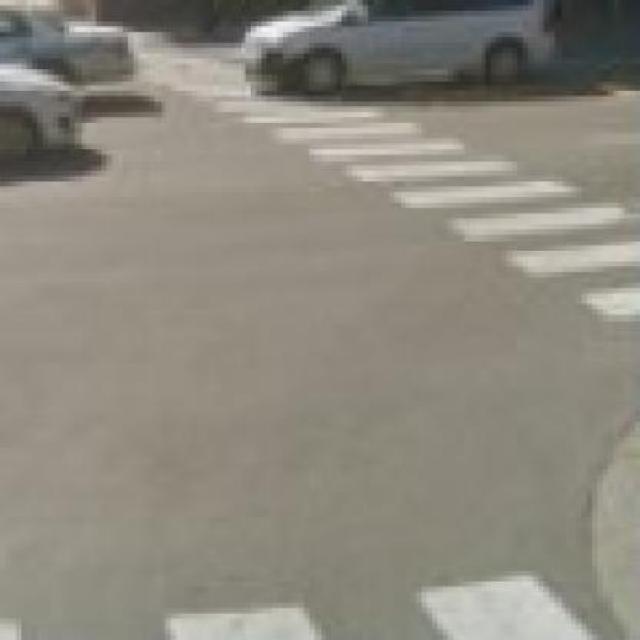crosswalk: (140, 57, 640, 321), (3, 572, 600, 639)
